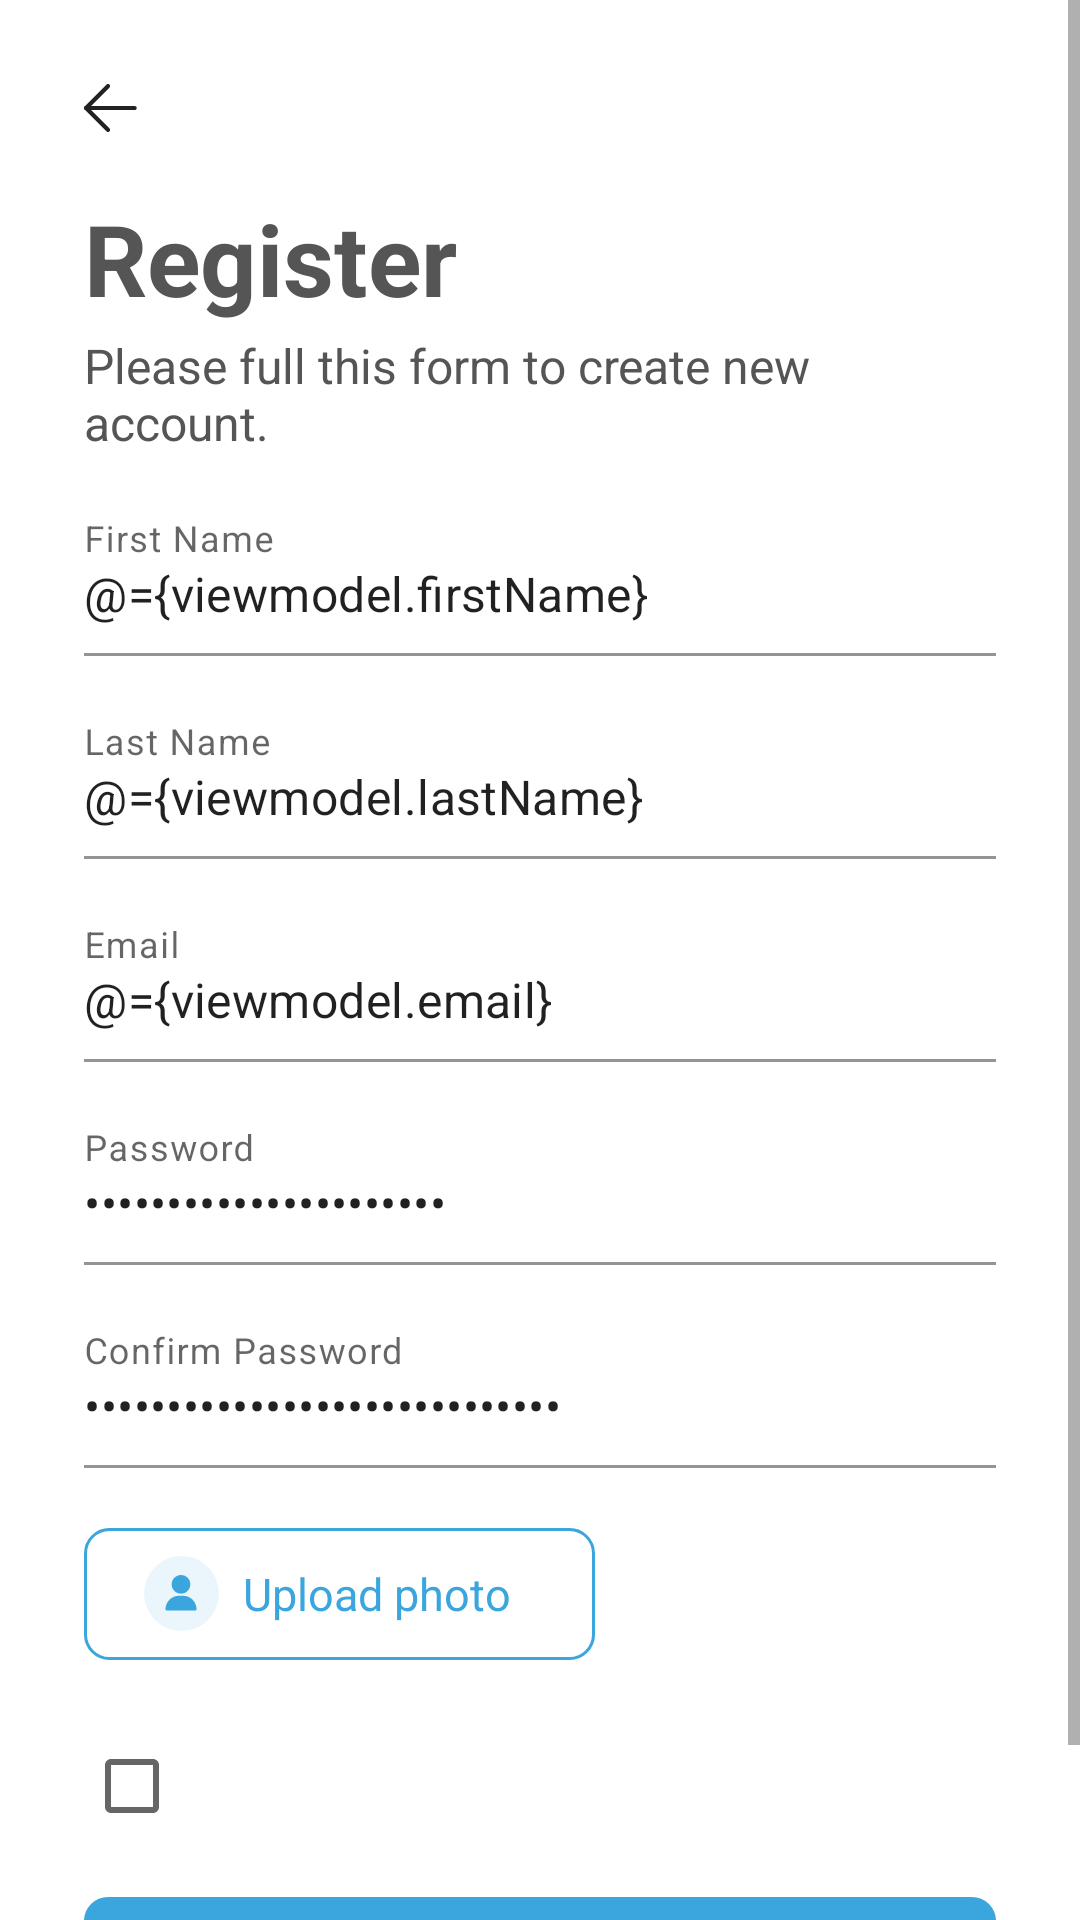

Screen size 1080 x 1920. Icon name, then its box in pixels as {"x1": x1, "y1": y1, "x2": x2, "y2": y2}:
arrow: {"x1": 84, "y1": 84, "x2": 137, "y2": 132}
